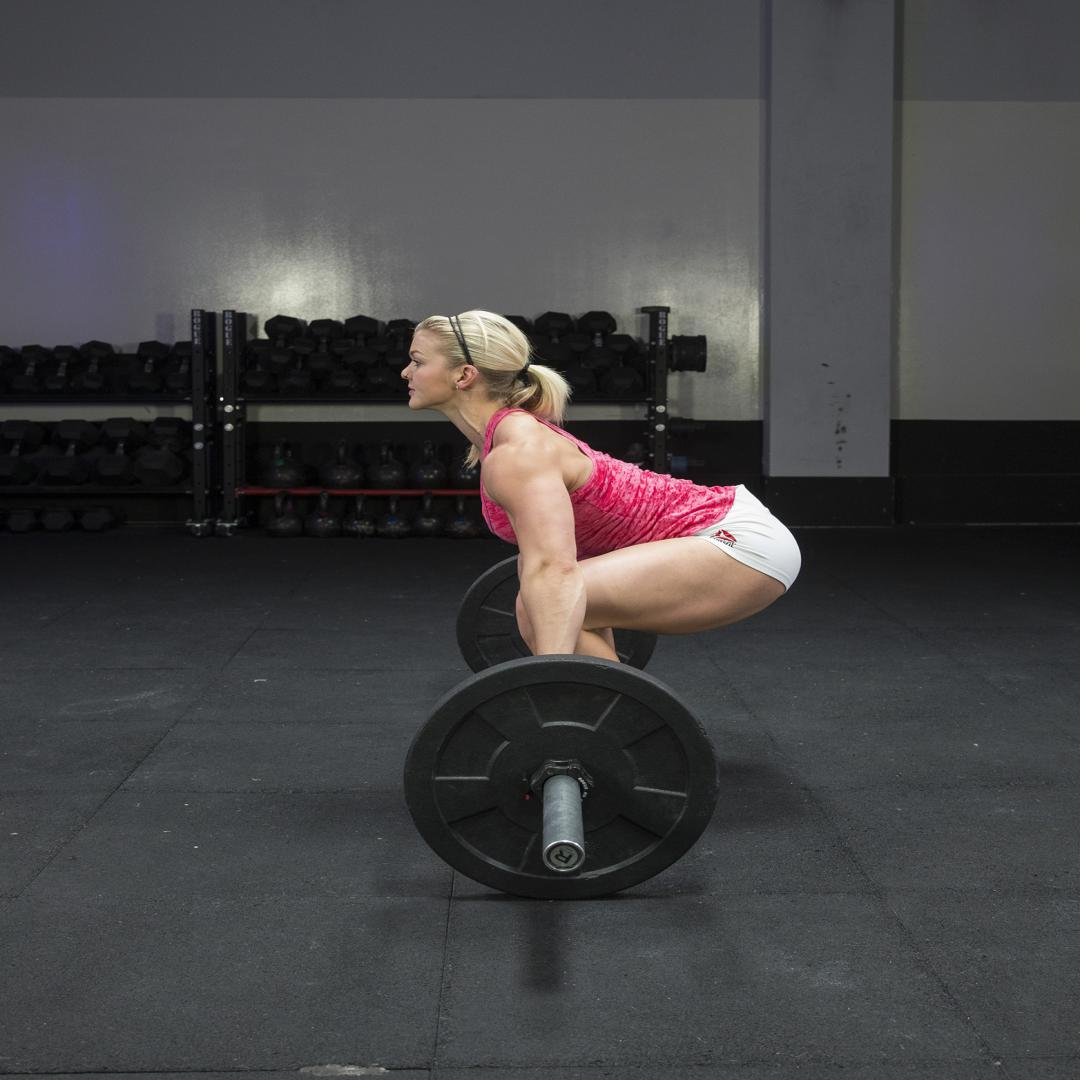Bar: (542, 840, 586, 872)
Barbell: (409, 659, 715, 903)
